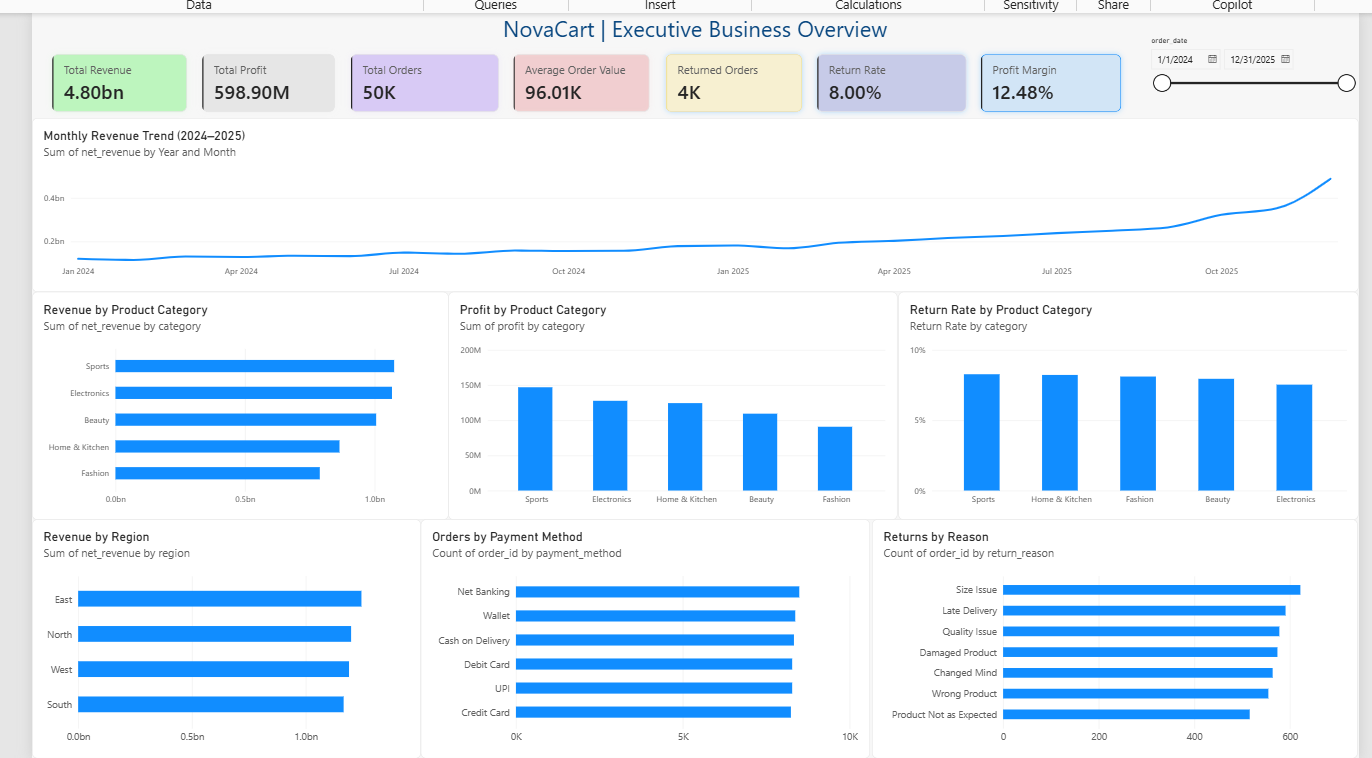

This screenshot's page, from the dashboard's own definition file:
{"tool":"powerbi","page":{"name":"Page 2","canvas":[1920,1080],"ordinal":0},"visuals":[{"type":"lineChart","title":"Monthly Revenue Trend (2024–2025)","fields":{"Category":["orders_features.order_date.Variation.Date Hierarchy.Year","orders_features.order_date.Variation.Date Hierarchy.Month","orders_features.order_date.Variation.Date Hierarchy.Day"],"Y":["Sum(orders_features.net_revenue)"]},"box":[0,152,1921.1,252.3],"z":0},{"type":"clusteredBarChart","title":"Revenue by Product Category","fields":{"Category":["products_features.category"],"Y":["Sum(orders_features.net_revenue)"]},"box":[0,403.3,603.3,330],"z":1},{"type":"clusteredColumnChart","title":"Profit by Product Category","fields":{"Category":["products_features.category"],"Y":["Sum(orders_features.profit)"]},"box":[603.3,403.3,650,330],"z":2},{"type":"clusteredBarChart","title":"Revenue by Region","fields":{"Category":["customers_features.region"],"Y":["Sum(orders_features.net_revenue)"]},"box":[0,733.3,563.3,346.7],"z":3},{"type":"clusteredColumnChart","title":"Return Rate by Product Category","fields":{"Category":["products_features.category"],"Y":["orders_features.Return Rate"]},"box":[1253.3,403.3,666.7,330],"z":4},{"type":"clusteredBarChart","title":"Orders by Payment Method","fields":{"Category":["orders_features.payment_method"],"Y":["CountNonNull(orders_features.order_id)"]},"box":[563.3,733.3,650,346.7],"z":5},{"type":"clusteredBarChart","title":"Returns by Reason","fields":{"Category":["returns_features.return_reason"],"Y":["CountNonNull(returns_features.order_id)"]},"box":[1216.7,733.3,703.3,346.7],"z":6},{"type":"cardVisual","fields":{"Data":["orders_features.Total Revenue"]},"box":[19,48.8,217.1,105.8],"z":7},{"type":"cardVisual","fields":{"Data":["orders_features.Total Profit"]},"box":[236.1,48.8,214.4,105.8],"z":8},{"type":"cardVisual","fields":{"Data":["orders_features.Total Orders"]},"box":[450.4,48.8,236.1,105.8],"z":9},{"type":"cardVisual","fields":{"Data":["orders_features.Average Order Value"]},"box":[686.5,48.8,219.8,105.8],"z":10},{"type":"cardVisual","fields":{"Data":["orders_features.Returned Orders"]},"box":[906.3,48.8,219.8,105.8],"z":11},{"type":"cardVisual","fields":{"Data":["orders_features.Return Rate"]},"box":[1126.1,48.8,238.8,105.8],"z":12},{"type":"cardVisual","fields":{"Data":["orders_features.Profit Margin"]},"box":[1362.1,48.8,225.2,105.8],"z":13},{"type":"textbox","box":[0,0,1920,43.3],"z":14},{"type":"slicer","fields":{"Values":["orders_features.order_date"]},"box":[1611.8,32.6,306.6,122.1],"z":15}]}

Visuals, with their boxes on the page's 1920x1080 design canvas (x1, y1, x2, y2). These are canvas units, not pixel positions in the 1372x758 screenshot, which may show the page scaled, cropped or inside an application window:
"Monthly Revenue Trend (2024–2025)" lineChart: 0/152/1921/404
"Revenue by Product Category" clusteredBarChart: 0/403/603/733
"Profit by Product Category" clusteredColumnChart: 603/403/1253/733
"Revenue by Region" clusteredBarChart: 0/733/563/1080
"Return Rate by Product Category" clusteredColumnChart: 1253/403/1920/733
"Orders by Payment Method" clusteredBarChart: 563/733/1213/1080
"Returns by Reason" clusteredBarChart: 1217/733/1920/1080
cardVisual - orders_features.Total Revenue: 19/49/236/155
cardVisual - orders_features.Total Profit: 236/49/450/155
cardVisual - orders_features.Total Orders: 450/49/686/155
cardVisual - orders_features.Average Order Value: 686/49/906/155
cardVisual - orders_features.Returned Orders: 906/49/1126/155
cardVisual - orders_features.Return Rate: 1126/49/1365/155
cardVisual - orders_features.Profit Margin: 1362/49/1587/155
textbox: 0/0/1920/43
slicer - orders_features.order_date: 1612/33/1918/155
